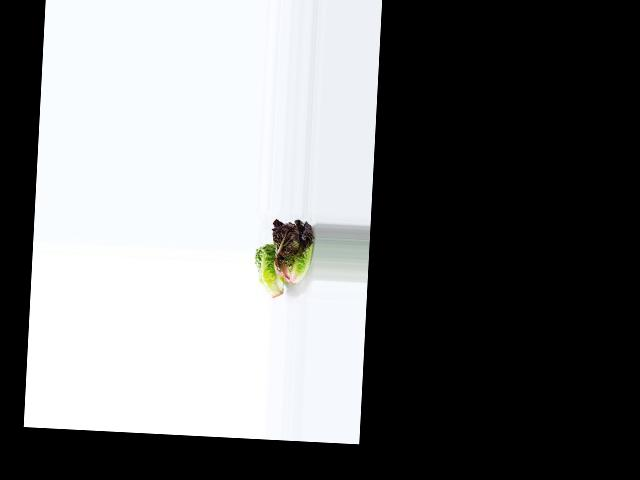lettuce: (252, 242, 288, 300)
